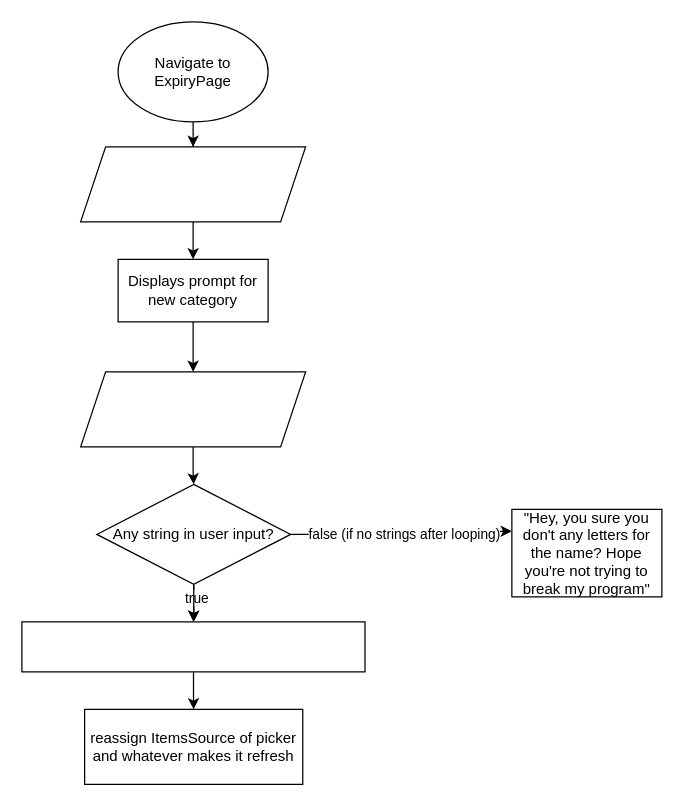
This 684x806 diagram has some shape labels left out. Each missing label, with the centre of its shape:
"Add Category" button clicked: point 192,184
expiryDatabase.SaveCategoryAsync(input): point 193,646
Receives user input: point 192,409
